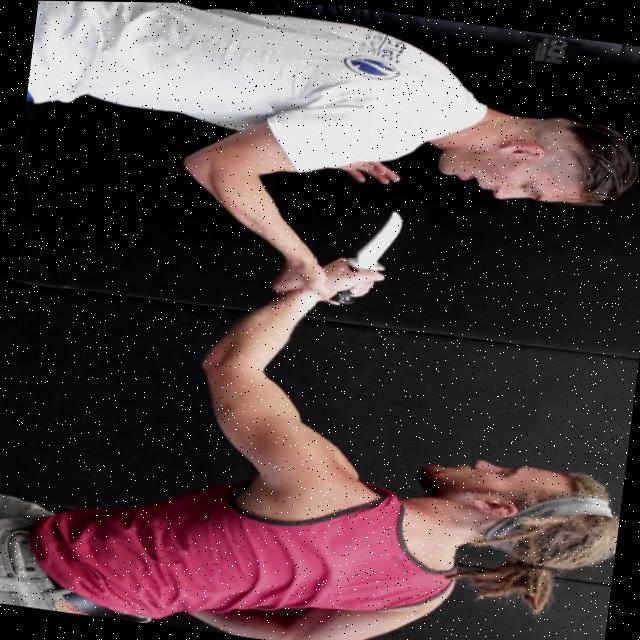knife: (321, 194, 414, 314)
